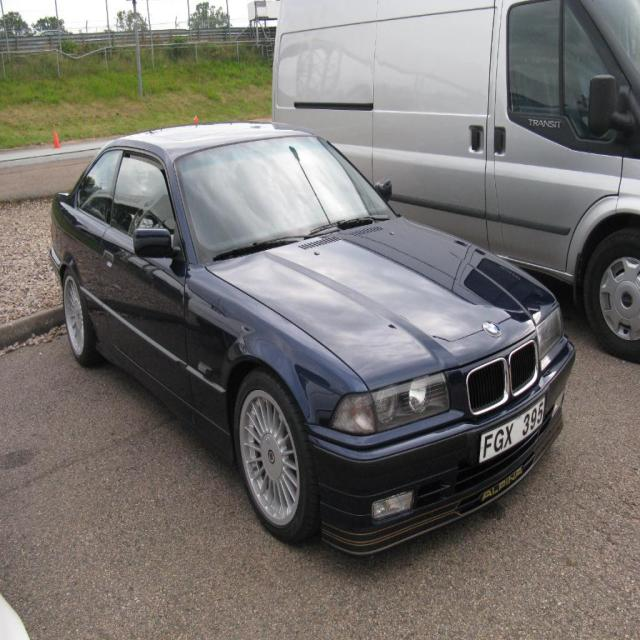car: (47, 119, 572, 556)
